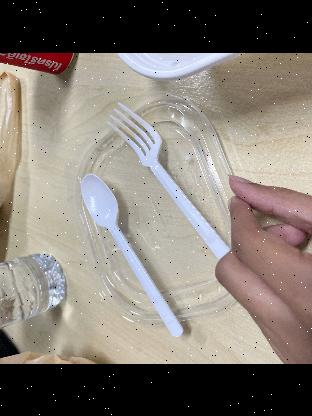Others: (102, 99, 240, 260), (78, 170, 189, 334)
